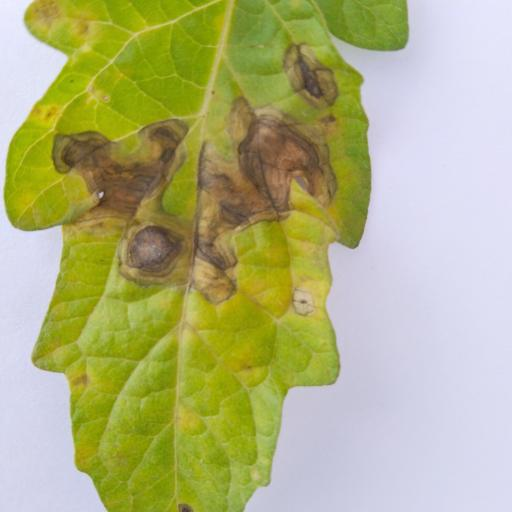disease_tomato: (0, 0, 369, 512)
